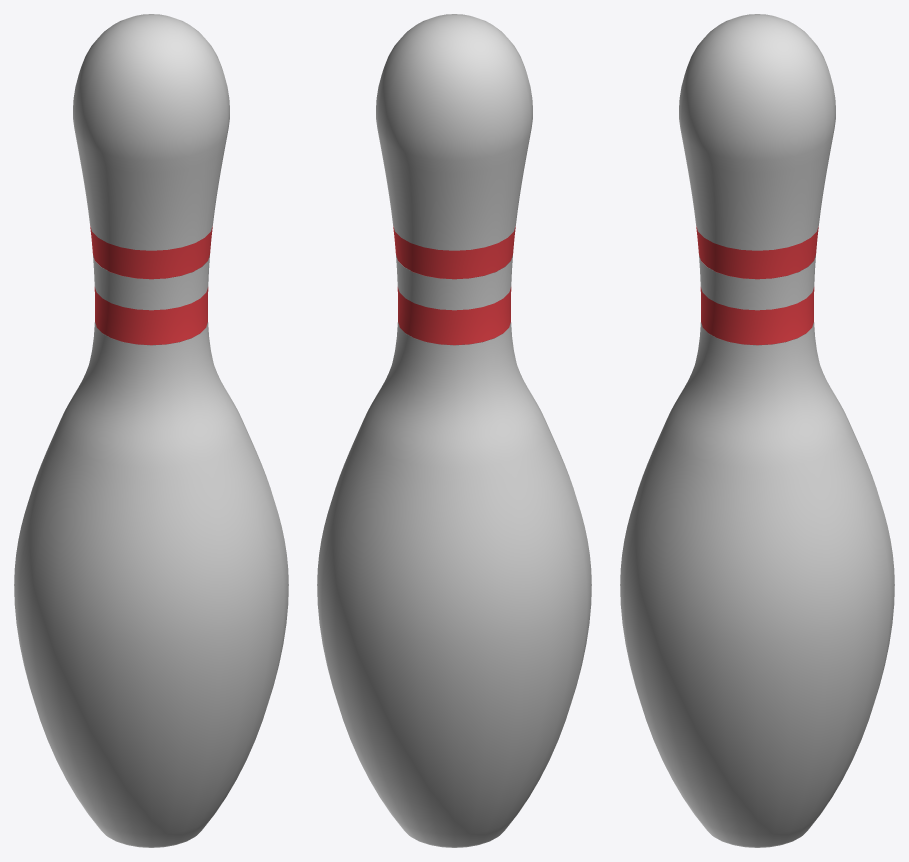
File: bowling.gltf
3 views of the same model, side by side, from view 1: azimuth 30°, elevation 25°; view 2: azimuth 150°, elevation 25°; view 3: azimuth 270°, elevation 25° (orthographic).
Parts seen in each view (by area): view 1: pin; view 2: pin; view 3: pin.
Boxes of the visible parts, box(x1,y1,x2,y2) form: pin: box(14, 14, 288, 847); pin: box(317, 14, 591, 847); pin: box(620, 14, 894, 847).
Bounding box in the file's own units: 1.7 × 5.54 × 1.7.
